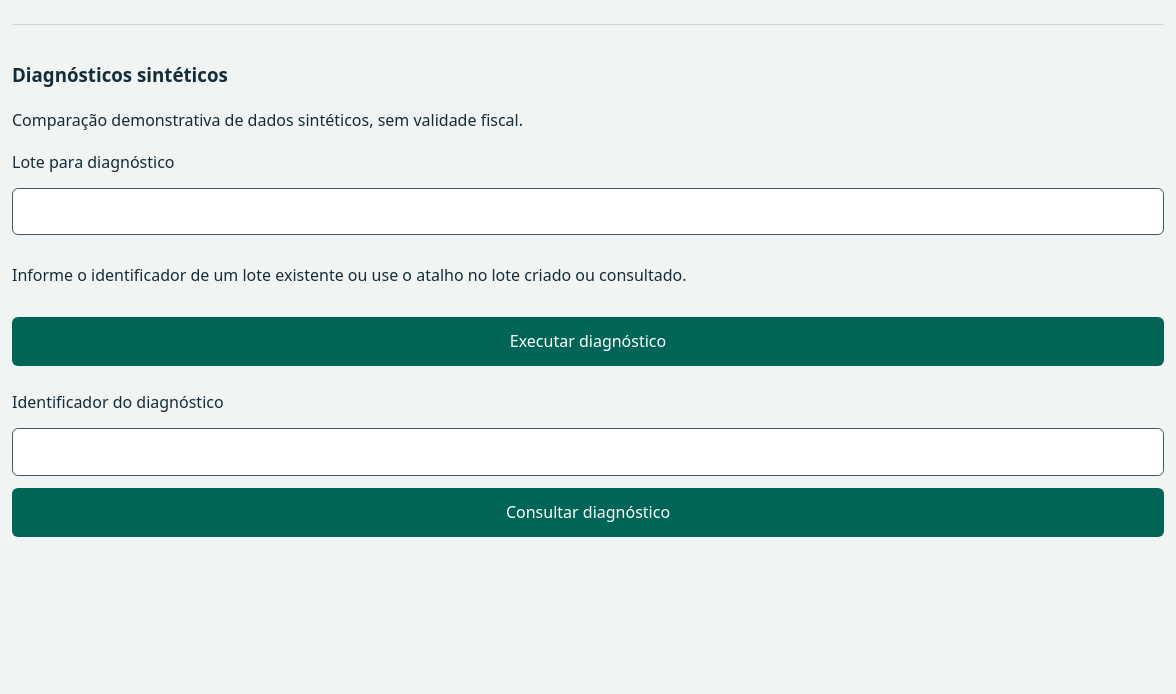
creates a diagnostic with only the known batch reference and session CSRF
This screenshot has width=1176, height=694.
Type "00000000-0000-4000-8000-000000000002" into the field labelled "Lote para diagnóstico" at (588, 211), box [12,188,1164,235]
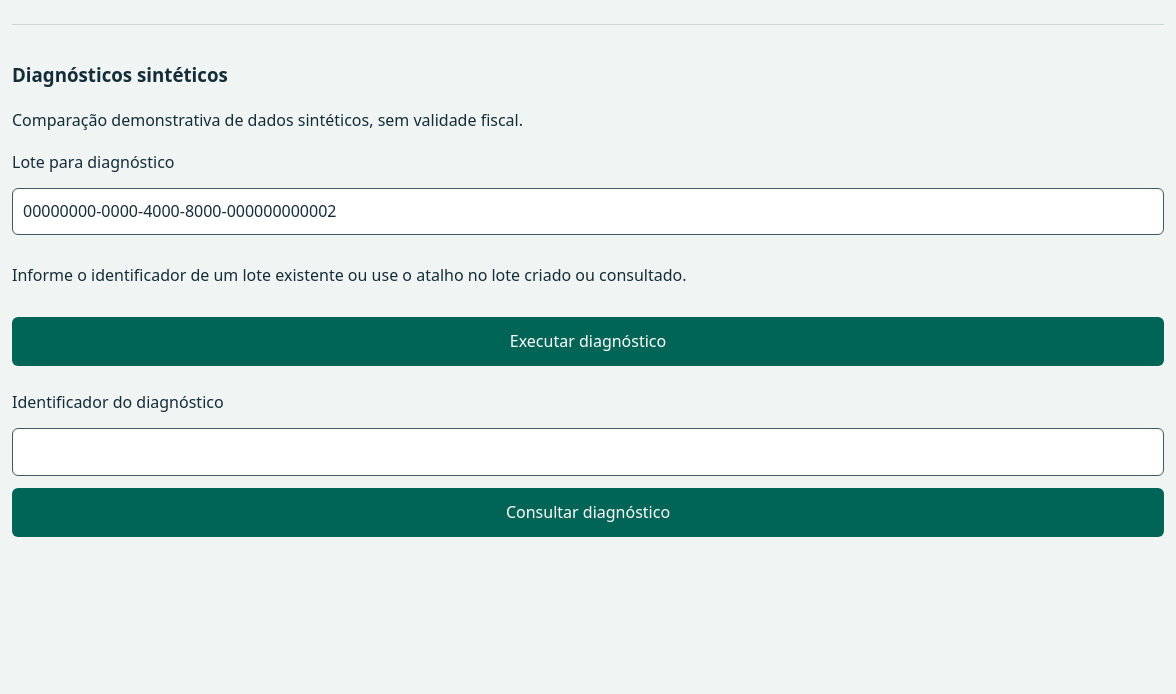
Click the button "Executar diagnóstico" at (588, 342), box [12,317,1164,366]
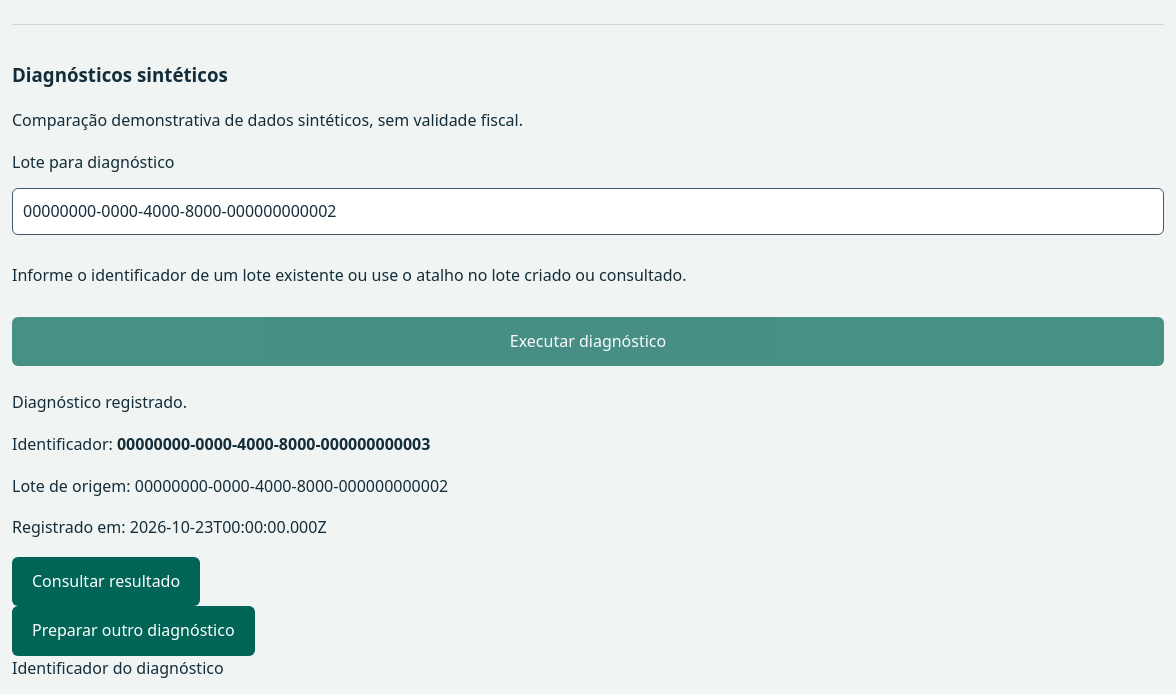
Expected: the text "00000000-0000-4000-8000-000000000003" is shown, [117,433,430,455]
